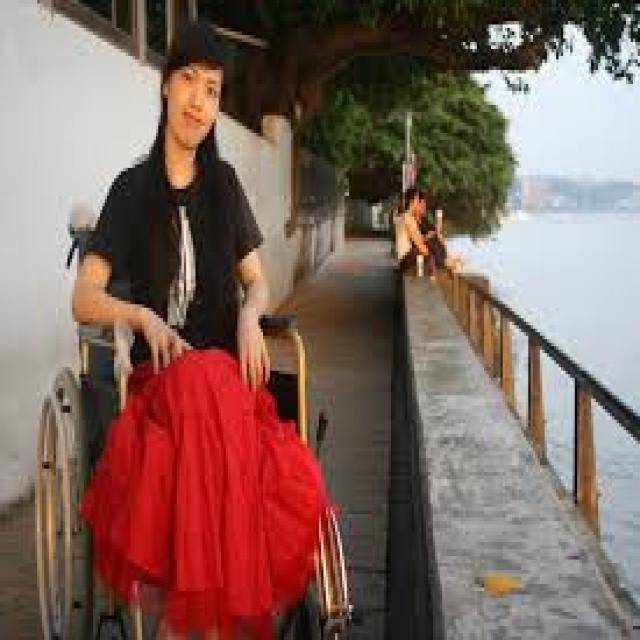wheelchairs: (19, 199, 352, 636)
